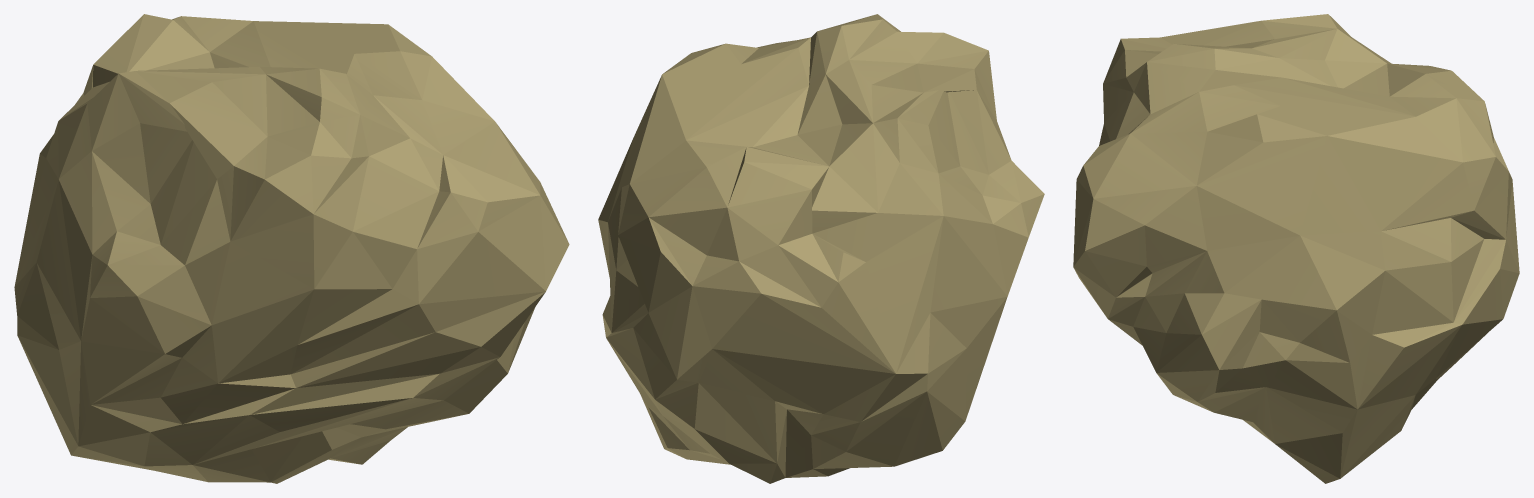
Rendered from SM_rock_55.fbx.
3 renders of one model, left to right at view 1: azimuth 30°, elevation 25°; view 2: azimuth 150°, elevation 25°; view 3: azimuth 270°, elevation 25°, orthographic. The views are drawn at different scales.
Visible parts, largest first — view 1: rock_55; view 2: rock_55; view 3: rock_55.
Boxes of the visible parts, box(x1,y1,x2,y2) form: rock_55: box(14, 14, 569, 483); rock_55: box(598, 14, 1044, 483); rock_55: box(1073, 14, 1519, 483).
Bounding box in the file's own units: 375 × 378 × 391.
